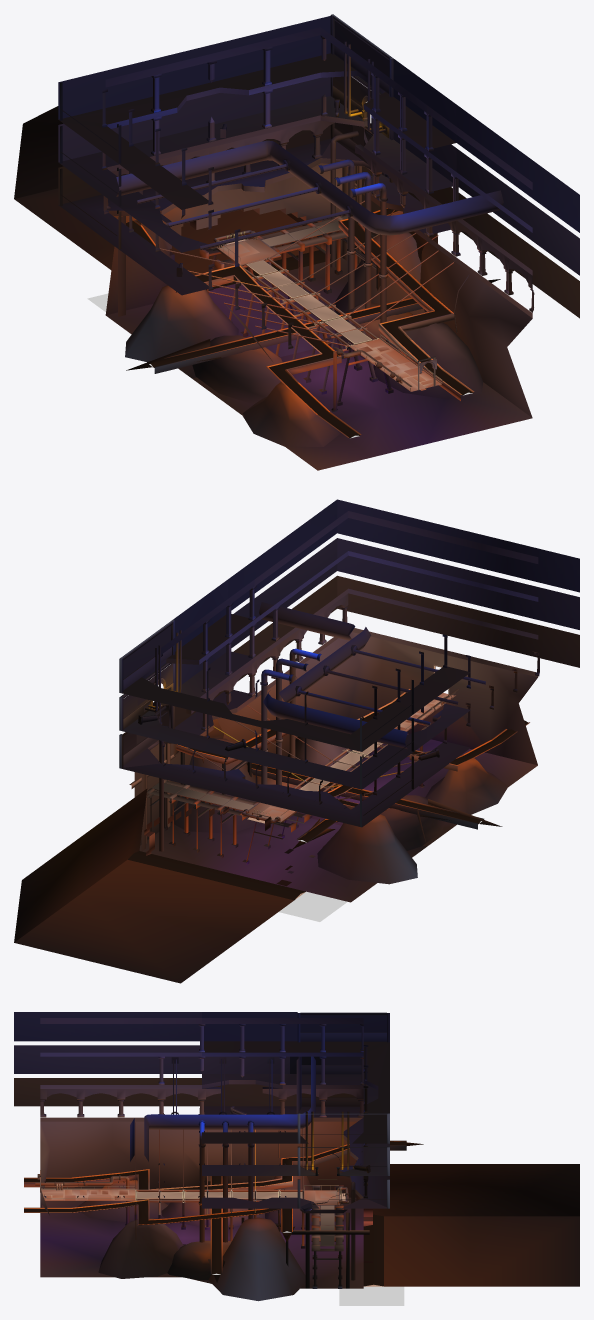
The model's file is 06LavaRoom.gltf.
3 views of the same model, one above another, from view 1: azimuth 30°, elevation 25°; view 2: azimuth 150°, elevation 25°; view 3: azimuth 270°, elevation 25° (orthographic). The views are drawn at different scales.
Parts seen in each view (by area): view 1: stg033_o13_Mesh_0009, stg033_o13_Mesh_0006, stg033_o13_Mesh_0014, stg033_o13_Mesh_0000, stg033_o13_Mesh_0011, stg033_o13_Mesh_0015, stg033_o13_Mesh_0007, stg033_o13_Mesh_0010, stg033_g14_Mesh_0001, stg033_o13_Mesh_0018, stg033_o14_Mesh_0021, stg033_o14_Mesh_0009 (+12 smaller); view 2: stg033_o13_Mesh_0009, stg033_o13_Mesh_0006, stg033_o13_Mesh_0014, stg033_o13_Mesh_0018, stg033_o13_Mesh_0010, stg033_o13_Mesh_0015, stg033_o13_Mesh_0000, stg033_o13_Mesh_0007, stg033_o13_Mesh_0011, stg033_g14_Mesh_0001, stg033_o14_Mesh_0009, stg033_o14_Mesh_0027 (+8 smaller); view 3: stg033_o13_Mesh_0009, stg033_o13_Mesh_0018, stg033_o13_Mesh_0010, stg033_o13_Mesh_0006, stg033_o13_Mesh_0014, stg033_o13_Mesh_0000, stg033_o13_Mesh_0015, stg033_o13_Mesh_0011, stg033_o13_Mesh_0007, stg033_g14_Mesh_0001, stg033_o14_Mesh_0027, stg030_o12_Mesh_0006 (+12 smaller).
Boxes of the visible parts, left/top/right/bottom form: stg033_o13_Mesh_0009: left=14, top=106, right=532, bottom=470; stg033_o13_Mesh_0006: left=58, top=53, right=456, bottom=403; stg033_o13_Mesh_0014: left=58, top=16, right=579, bottom=318; stg033_o13_Mesh_0000: left=116, top=41, right=503, bottom=410; stg033_o13_Mesh_0011: left=118, top=166, right=474, bottom=437; stg033_o13_Mesh_0015: left=58, top=77, right=579, bottom=275; stg033_o13_Mesh_0007: left=105, top=27, right=532, bottom=406; stg033_o13_Mesh_0010: left=226, top=123, right=532, bottom=417; stg033_g14_Mesh_0001: left=126, top=208, right=472, bottom=438; stg033_o13_Mesh_0018: left=14, top=188, right=424, bottom=375; stg033_o14_Mesh_0021: left=105, top=163, right=342, bottom=315; stg033_o14_Mesh_0009: left=102, top=39, right=534, bottom=345; stg033_o13_Mesh_0009: left=14, top=733, right=537, bottom=942; stg033_o13_Mesh_0006: left=122, top=605, right=537, bottom=873; stg033_o13_Mesh_0014: left=173, top=499, right=579, bottom=726; stg033_o13_Mesh_0018: left=14, top=715, right=422, bottom=983; stg033_o13_Mesh_0010: left=134, top=632, right=537, bottom=845; stg033_o13_Mesh_0015: left=175, top=538, right=579, bottom=689; stg033_o13_Mesh_0000: left=145, top=602, right=485, bottom=851; stg033_o13_Mesh_0007: left=161, top=511, right=538, bottom=864; stg033_o13_Mesh_0011: left=129, top=664, right=529, bottom=861; stg033_g14_Mesh_0001: left=128, top=689, right=528, bottom=900; stg033_o14_Mesh_0009: left=142, top=589, right=539, bottom=801; stg033_o14_Mesh_0027: left=123, top=596, right=344, bottom=754; stg033_o13_Mesh_0009: left=40, top=1164, right=579, bottom=1301; stg033_o13_Mesh_0018: left=65, top=1190, right=579, bottom=1286; stg033_o13_Mesh_0010: left=40, top=1121, right=357, bottom=1216; stg033_o13_Mesh_0006: left=181, top=1041, right=389, bottom=1286; stg033_o13_Mesh_0014: left=14, top=1012, right=297, bottom=1106; stg033_o13_Mesh_0000: left=35, top=1056, right=355, bottom=1280; stg033_o13_Mesh_0015: left=14, top=1045, right=289, bottom=1073; stg033_o13_Mesh_0011: left=24, top=1122, right=406, bottom=1288; stg033_o13_Mesh_0007: left=40, top=1018, right=363, bottom=1288; stg033_g14_Mesh_0001: left=24, top=1141, right=406, bottom=1286; stg033_o14_Mesh_0027: left=47, top=1015, right=386, bottom=1097; stg030_o12_Mesh_0006: left=38, top=1032, right=386, bottom=1199.
Size of the model in its own units: 138 by 84.44 by 236.
